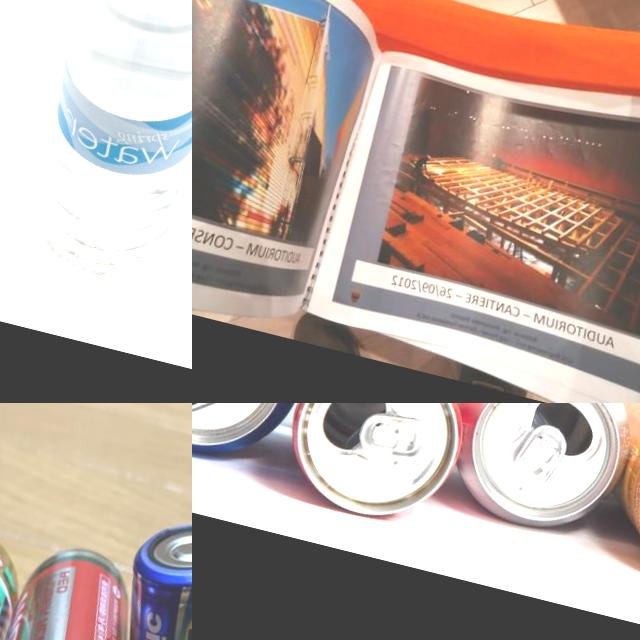aba de lata: (507, 418, 569, 490), (357, 406, 432, 464)
bateria: (0, 532, 180, 640), (77, 504, 192, 640)
garrafa plástica: (10, 0, 192, 298)
lata: (408, 403, 640, 546), (273, 403, 488, 537), (577, 403, 640, 602), (192, 403, 325, 479)
papel: (192, 0, 640, 403)
